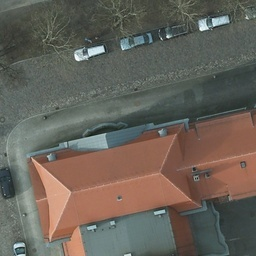car: (120, 30, 153, 51), (73, 41, 106, 62), (158, 21, 191, 41), (198, 14, 232, 32), (0, 167, 17, 200)
